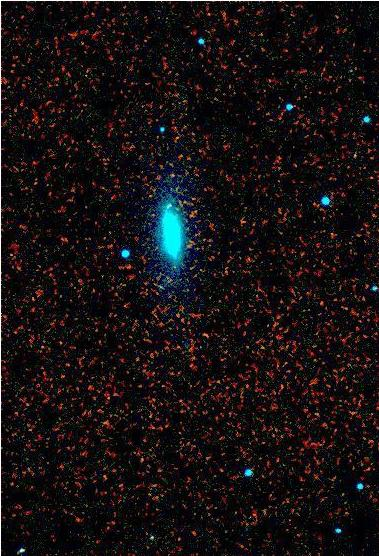star: (156, 195, 186, 225)
